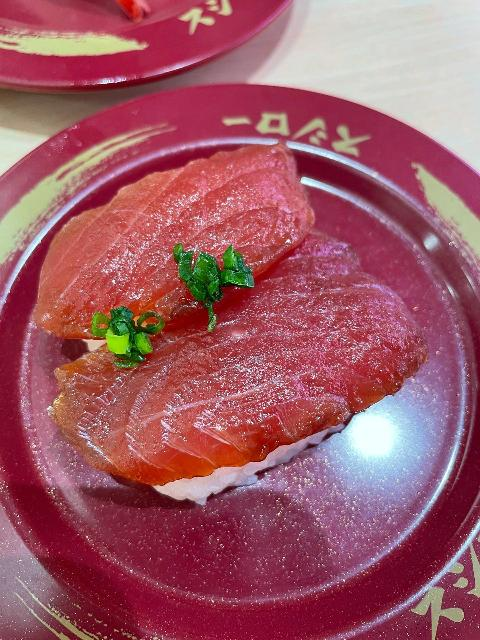janred: (27, 100, 455, 601), (0, 10, 277, 69)
